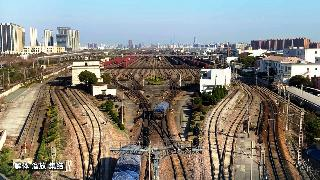train: (113, 145, 141, 179), (153, 100, 169, 119)
